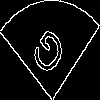G: (25, 25, 68, 85)
